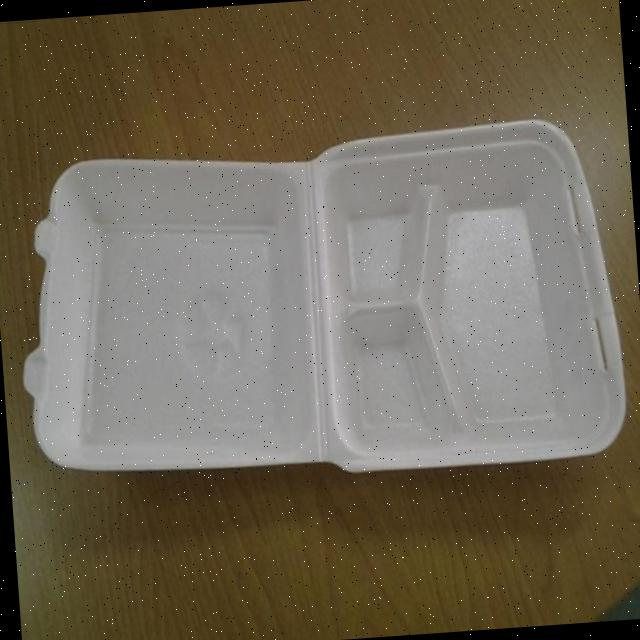styrofoam: (6, 110, 631, 498)
